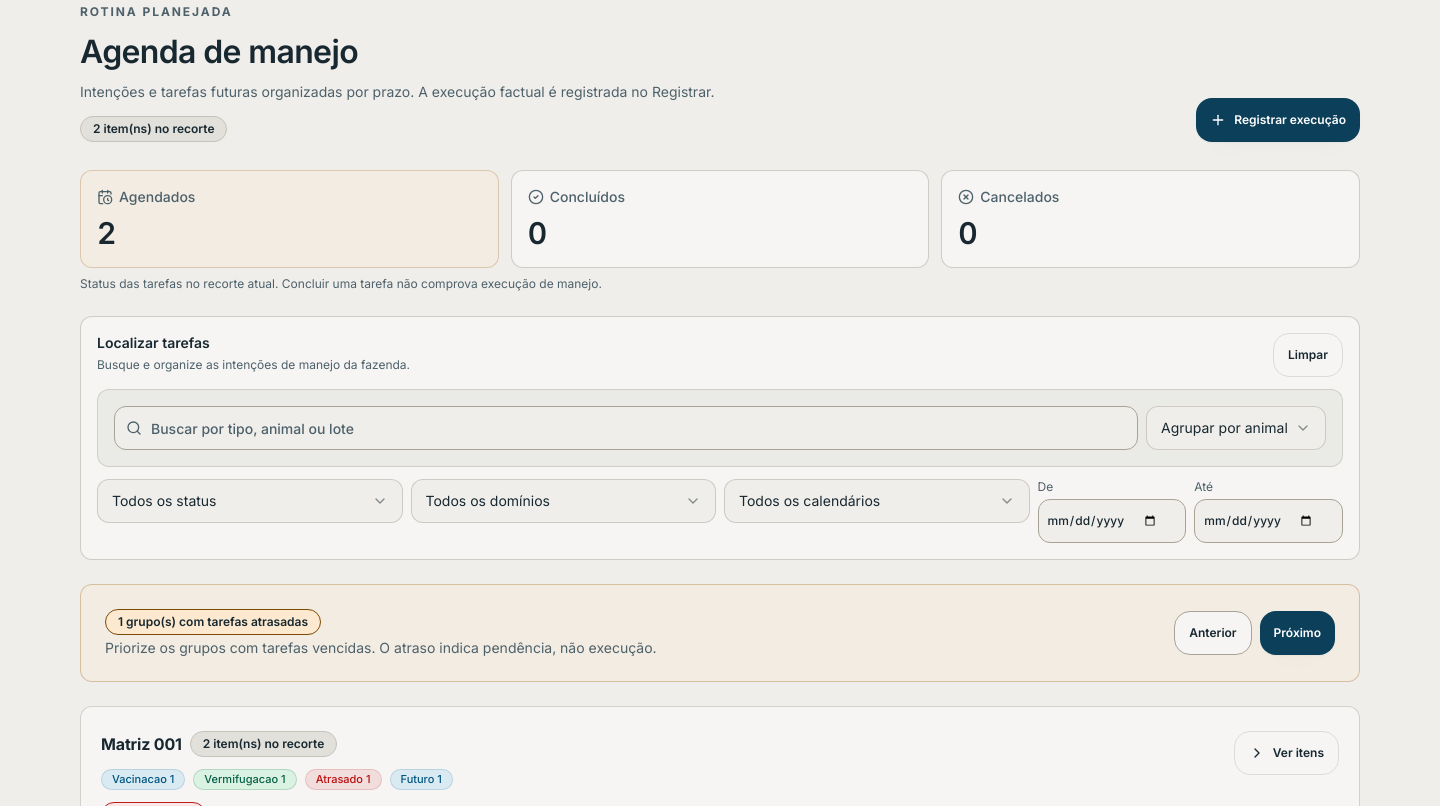
it: Agenda page › uses summary badges to focus the group and can reveal the full context
Expected: the button "Ver itens" is shown, top-left (1234, 730), bottom-right (1339, 774)
Expected: the text "Vacina Brucelose" is not shown
Click the button "Atrasado 1": (343, 779) top-left (305, 768), bottom-right (382, 790)
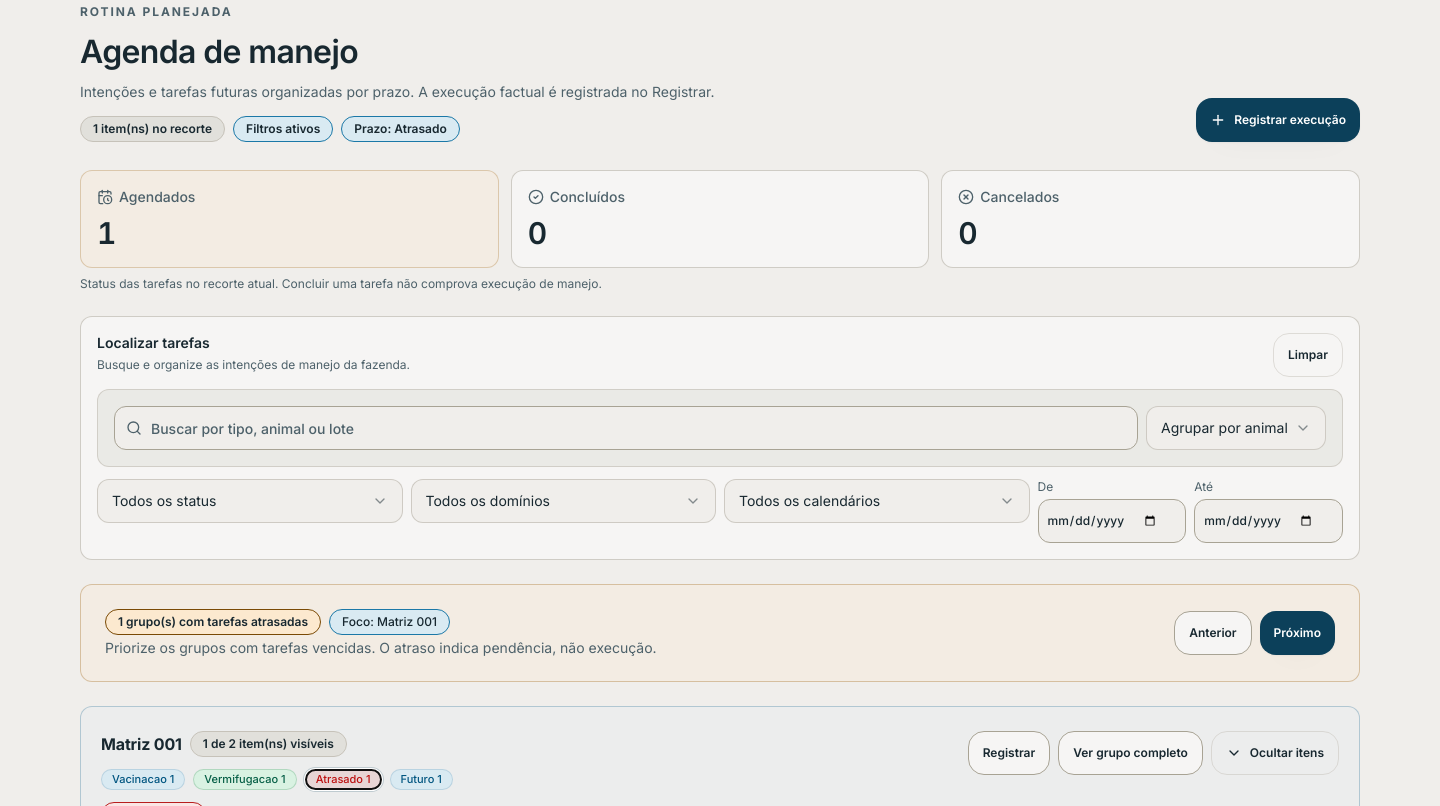
Expected: the text "Prazo: Atrasado" is shown, top-left (341, 116), bottom-right (460, 142)
Expected: the button "Ocultar itens" is shown, top-left (1211, 730), bottom-right (1339, 774)
Expected: the text "1 de 2 item(ns) visíveis" is shown, top-left (190, 730), bottom-right (347, 756)
Click the button "Ver grupo completo": (1130, 752) top-left (1058, 730), bottom-right (1203, 774)
(page scrolled)
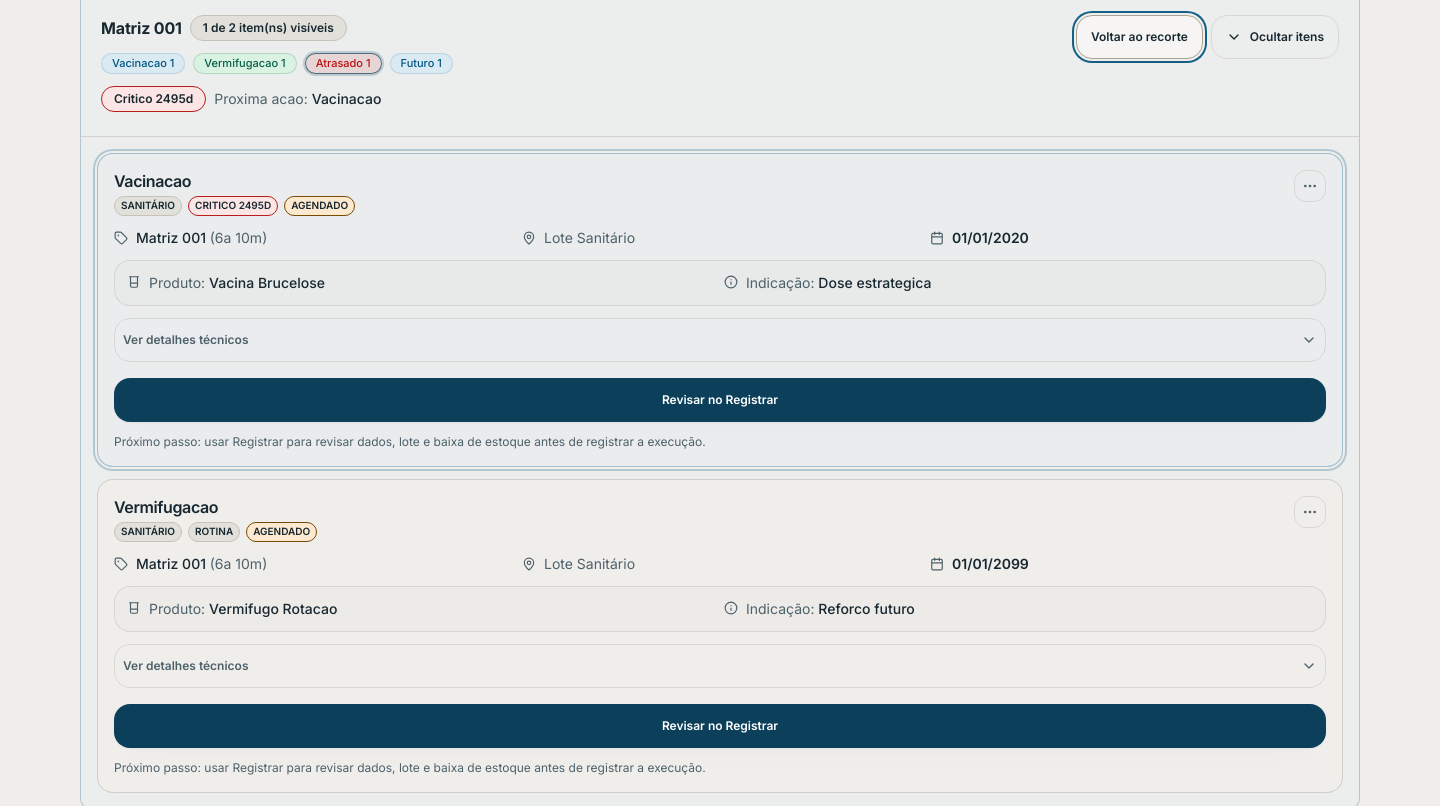
Expected: the text "Vermifugo Rotacao" is shown, top-left (209, 600), bottom-right (337, 616)
